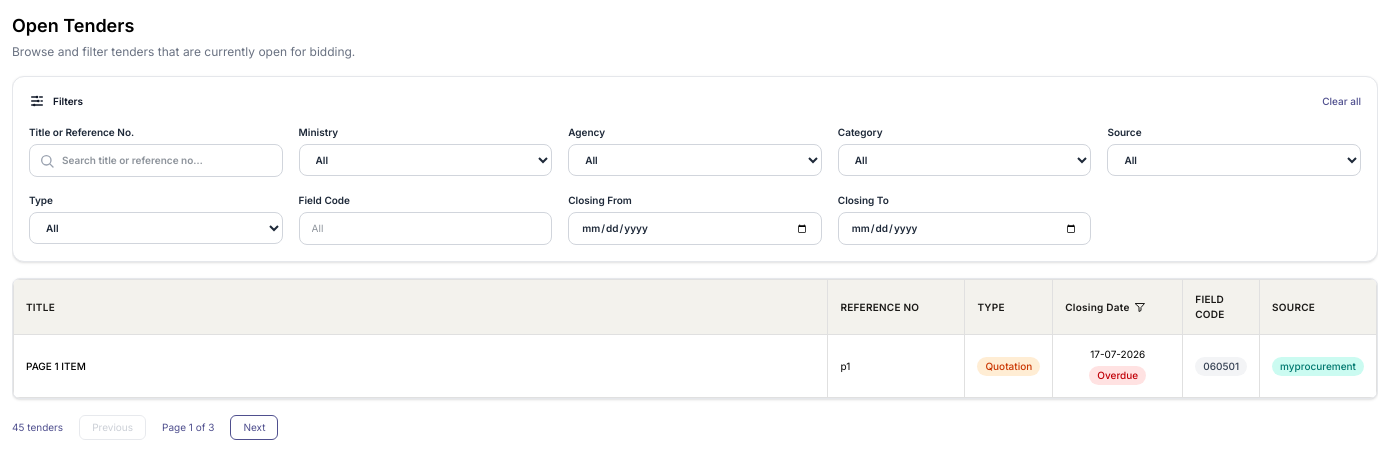
TenderListPage › paginates
Expected: the text "PAGE 1 ITEM" is shown, [14,334,828,398]
Expected: the text "45 tenders" is shown, [12,420,63,435]
Step 1. Click the button "Next" → (254, 428), box [230,415,278,440]
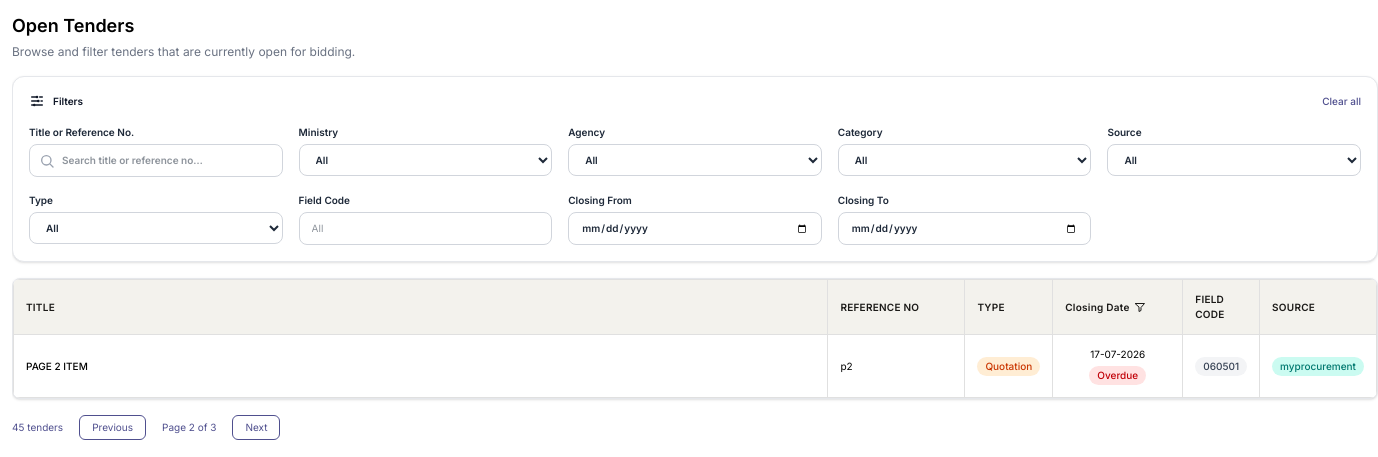
Expected: the text "PAGE 2 ITEM" is shown, [14,334,828,398]
Expected: the button "Previous" is enabled
Step 2. Click the button "Previous" → (113, 428), box [79,415,146,440]
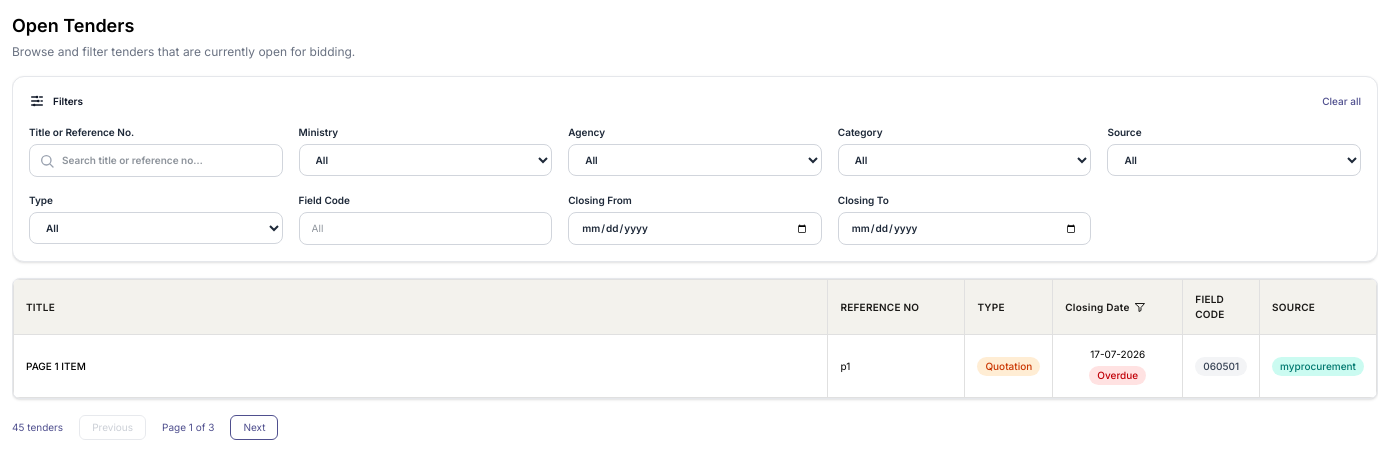
Expected: the text "PAGE 1 ITEM" is shown, [14,334,828,398]
